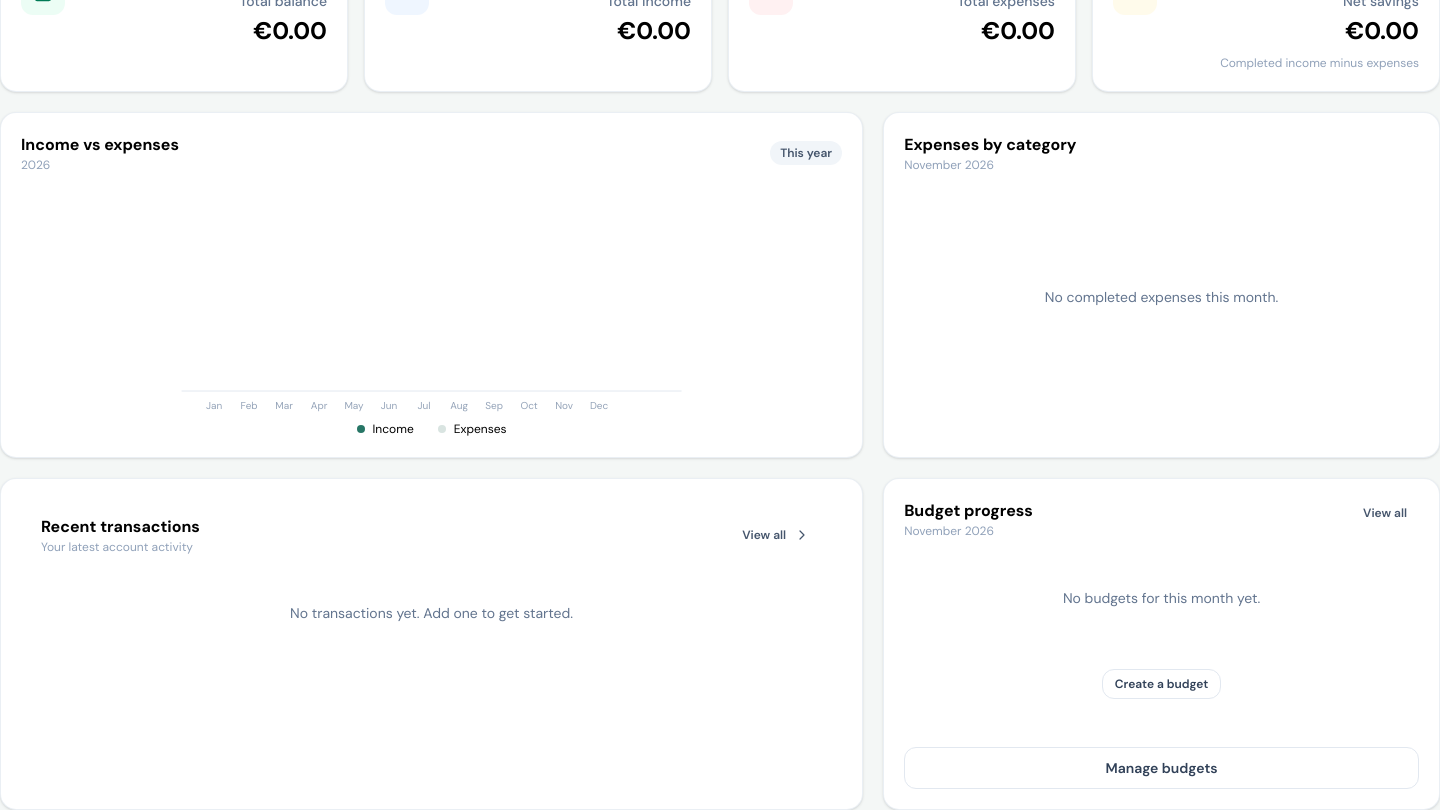
Test case: ClientDashboard budget summary › shows an empty state and navigates to budget creation
The image size is (1440, 810).
(page scrolled)
Expected: the text "No budgets for this month yet." is shown, [1063,588,1260,608]
Click the button "Create a budget" at (1162, 684), box [1102,668,1221,698]
(page scrolled)
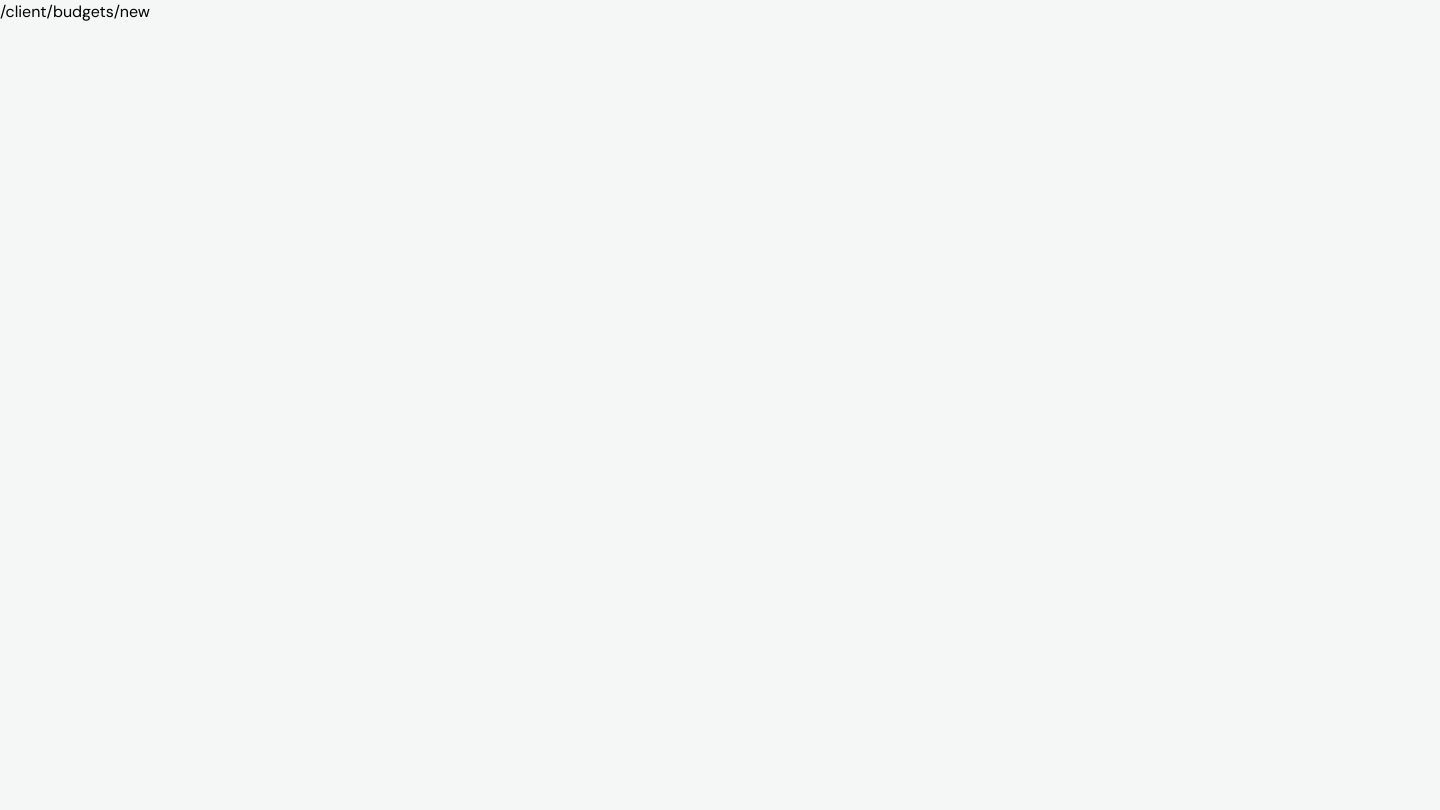
Now the text with test id "current-path" reads "/client/budgets/new", box [0,1,150,22]
